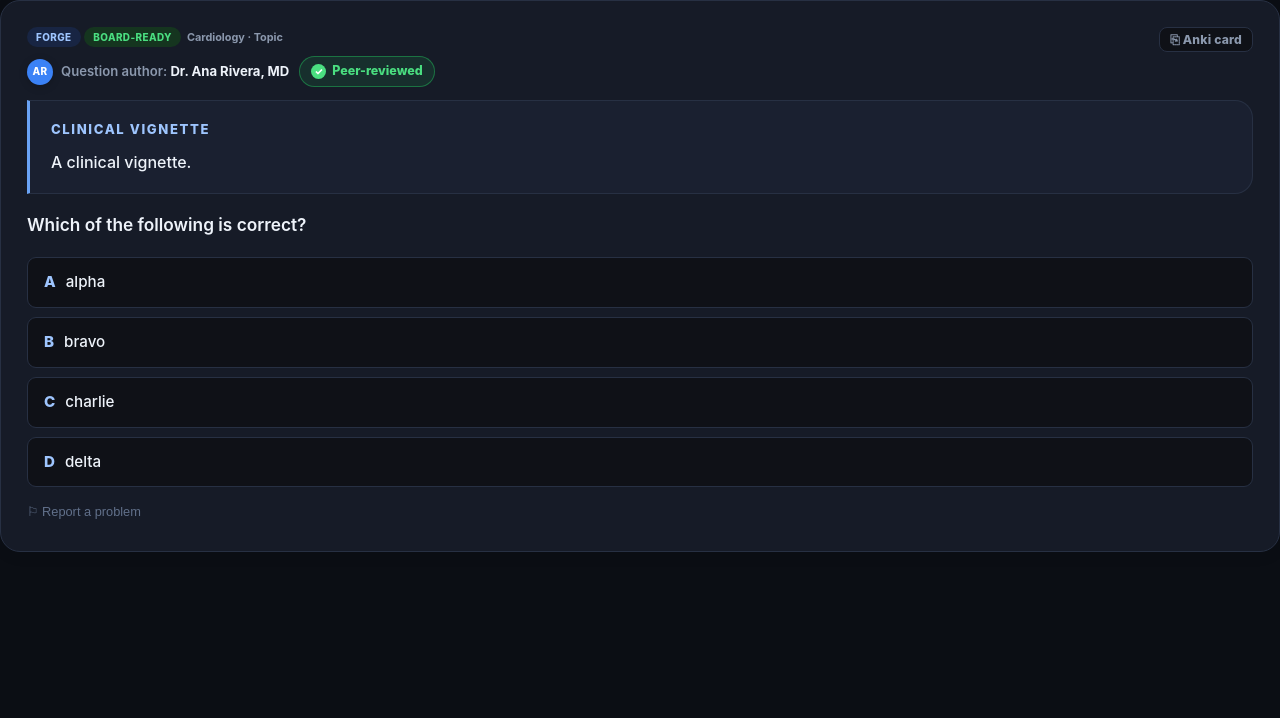
Test: report a problem (flagging) › opens the form, sends a reason + comment, and confirms
Click the button "⚐ Report a problem" at [84, 512], box [27,502,141,521]
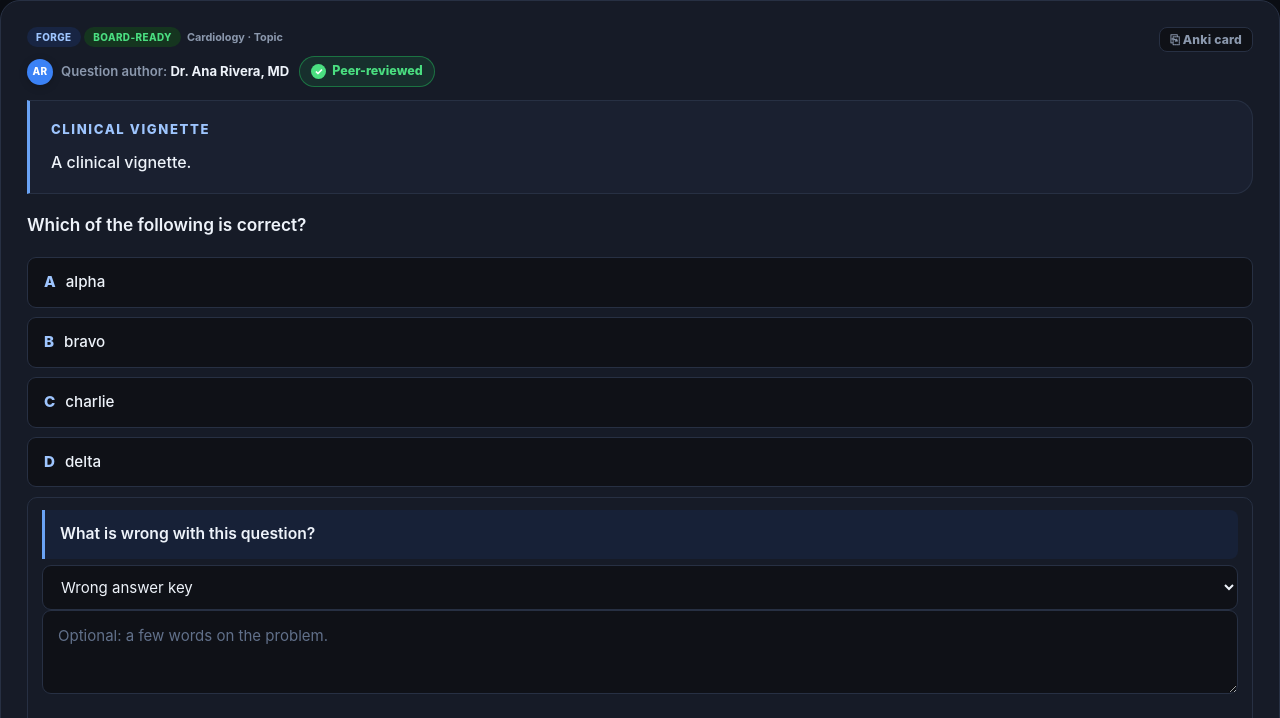
Select "Wrong answer key" in the dropdown at [640, 587], box [42,565,1238,610]
Type "B looks right too." into the text box with placeholder "Optional: a few words on the problem." at [640, 652], box [42,610,1238,694]
(page scrolled)
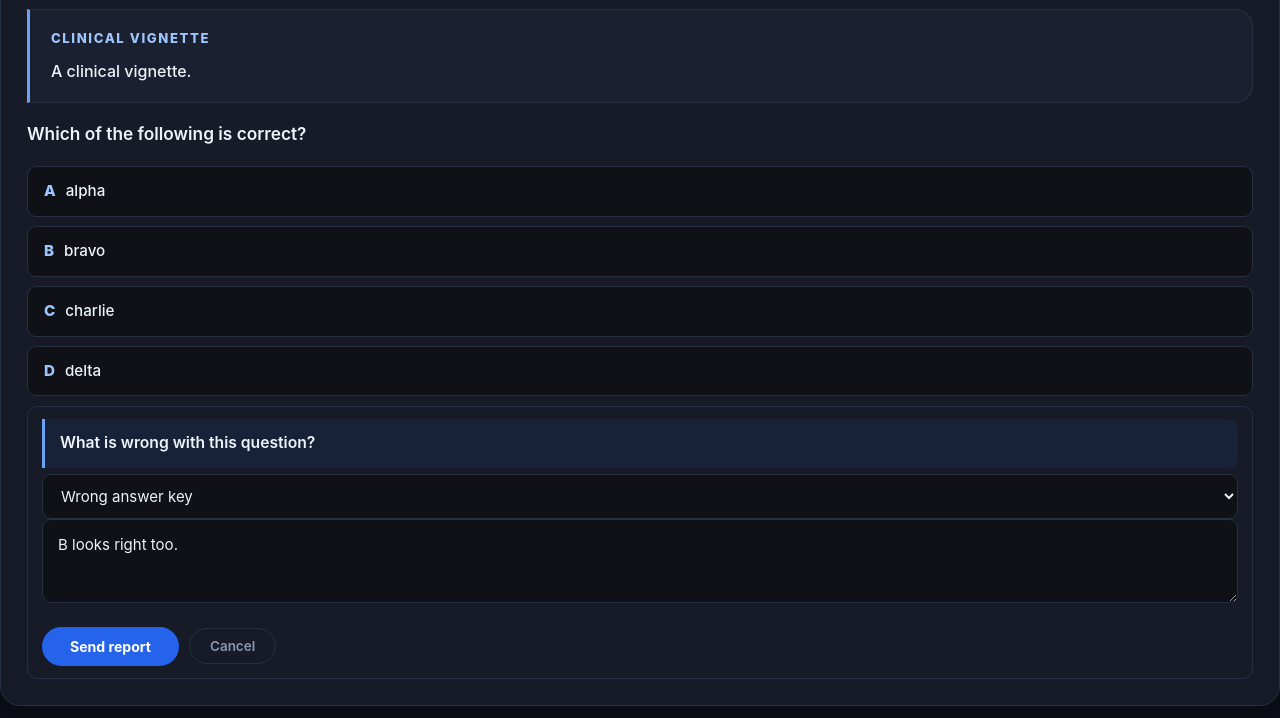
Click the button "Send report" at [110, 646], box [42,627,179,666]
(page scrolled)
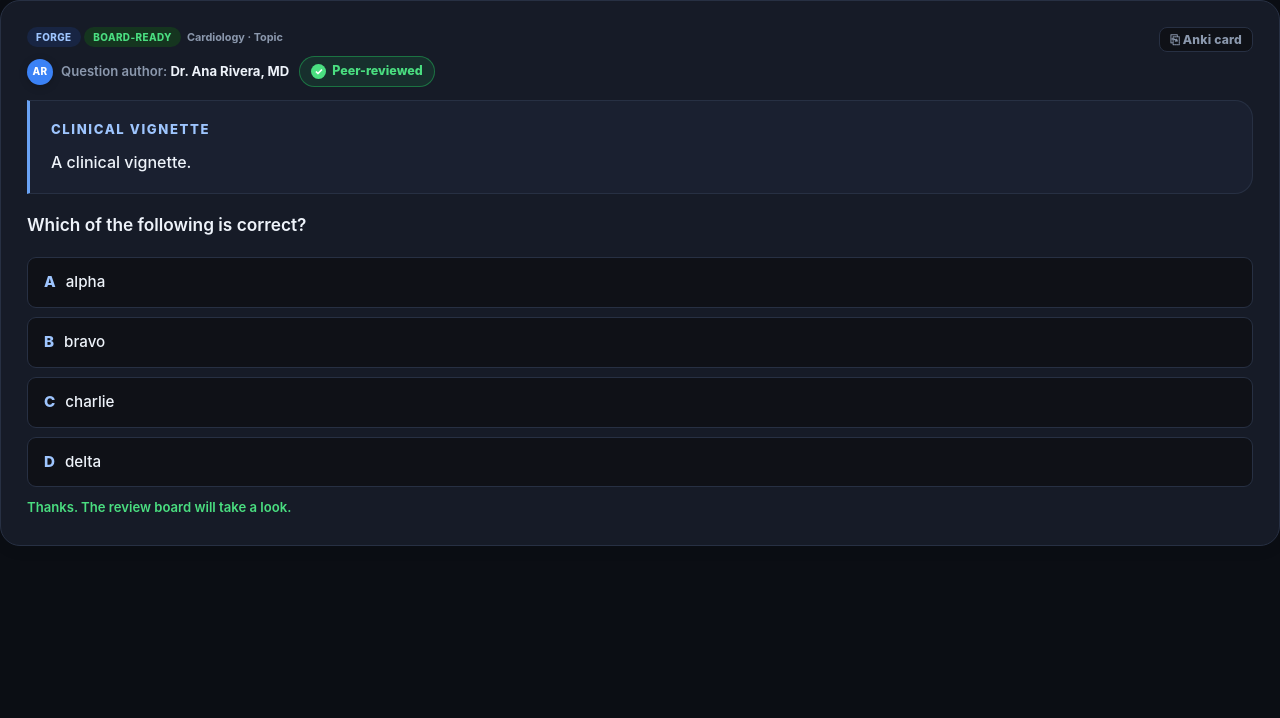
Result: the text "Thanks. The review board will take a look." is shown at [27,499,291,515]
